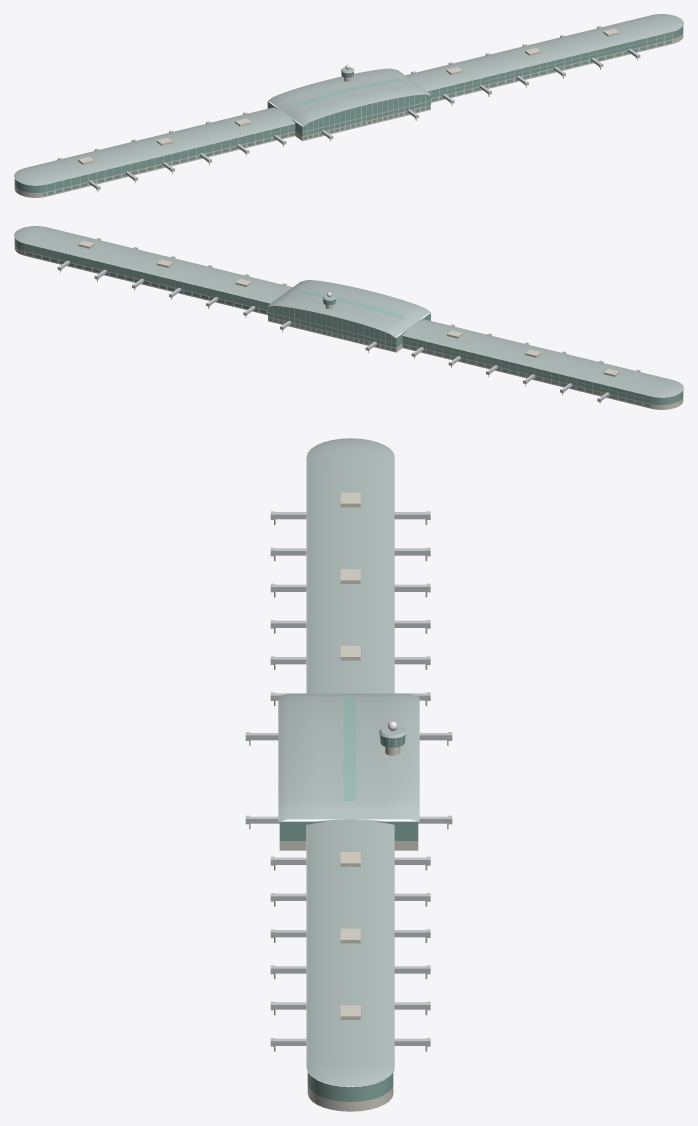
The model's file is incheon-airport-concourse.detail.glb.
3 renders of one model, top to bottom at view 1: azimuth 30°, elevation 25°; view 2: azimuth 150°, elevation 25°; view 3: azimuth 270°, elevation 25°, orthographic. The views are drawn at different scales.
Visible parts, largest first — view 1: Incheon International Airport Concourse; view 2: Incheon International Airport Concourse; view 3: Incheon International Airport Concourse.
Boxes of the visible parts, box(x1,y1,x2,y2) form: Incheon International Airport Concourse: box(14, 14, 683, 197); Incheon International Airport Concourse: box(14, 226, 683, 409); Incheon International Airport Concourse: box(245, 438, 452, 1111).
Size of the model in its own units: 931 by 50.4 by 125.
